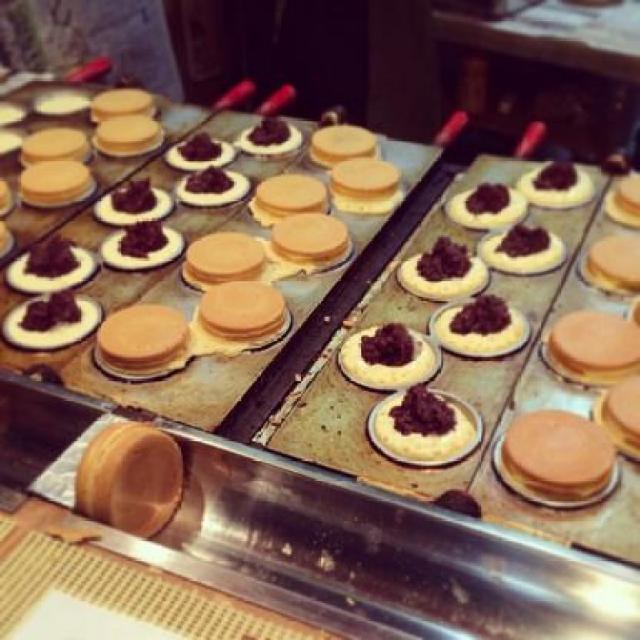Pancake: (503, 406, 622, 526), (76, 419, 186, 538), (539, 305, 639, 387), (374, 378, 472, 458), (94, 298, 188, 380), (198, 277, 292, 357), (342, 314, 440, 386), (430, 290, 527, 356), (0, 289, 98, 352), (397, 232, 485, 300), (11, 227, 97, 296), (268, 208, 350, 274), (182, 232, 266, 294), (100, 209, 182, 269), (480, 224, 566, 278), (513, 152, 590, 211), (94, 170, 168, 227), (596, 368, 639, 466), (250, 172, 328, 225), (444, 178, 526, 228), (580, 236, 638, 302), (88, 106, 157, 159), (21, 157, 90, 206), (178, 158, 245, 208), (16, 123, 89, 168), (313, 126, 382, 172), (168, 127, 234, 173), (238, 114, 306, 158), (332, 156, 390, 199), (97, 84, 154, 122), (602, 172, 640, 220), (0, 215, 12, 262), (0, 176, 14, 216)
